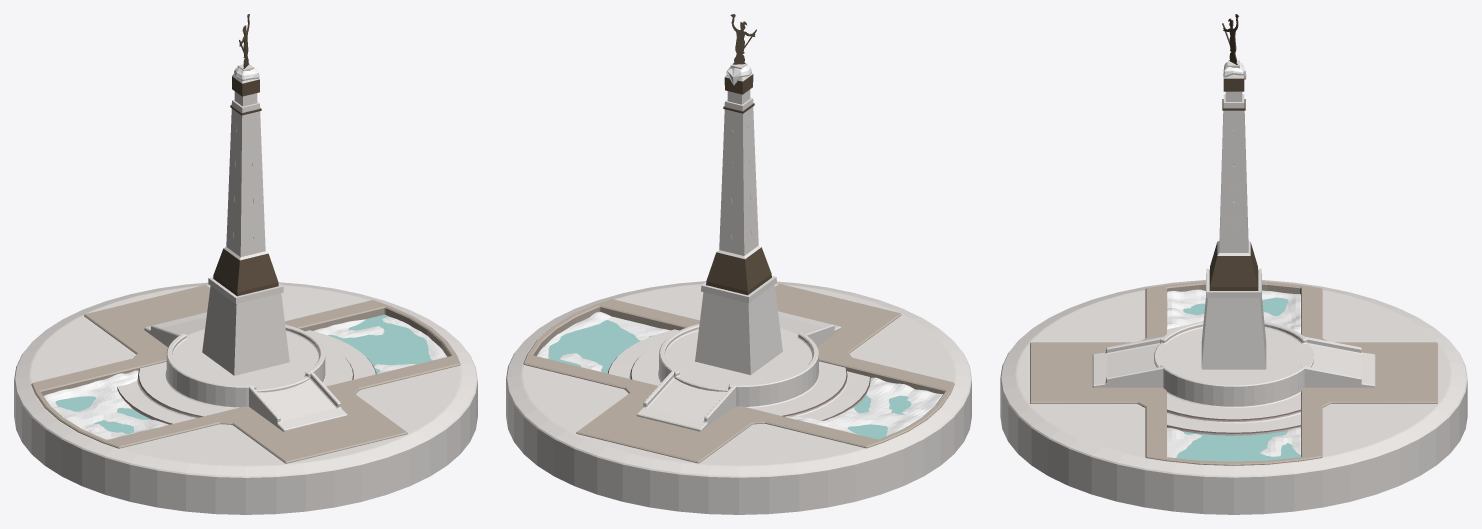
The model's file is monument.obj.
3 renders of one model, left to right at view 1: azimuth 30°, elevation 25°; view 2: azimuth 150°, elevation 25°; view 3: azimuth 270°, elevation 25°, orthographic.
Size of the model in its own units: 3225 by 3073 by 3225.
